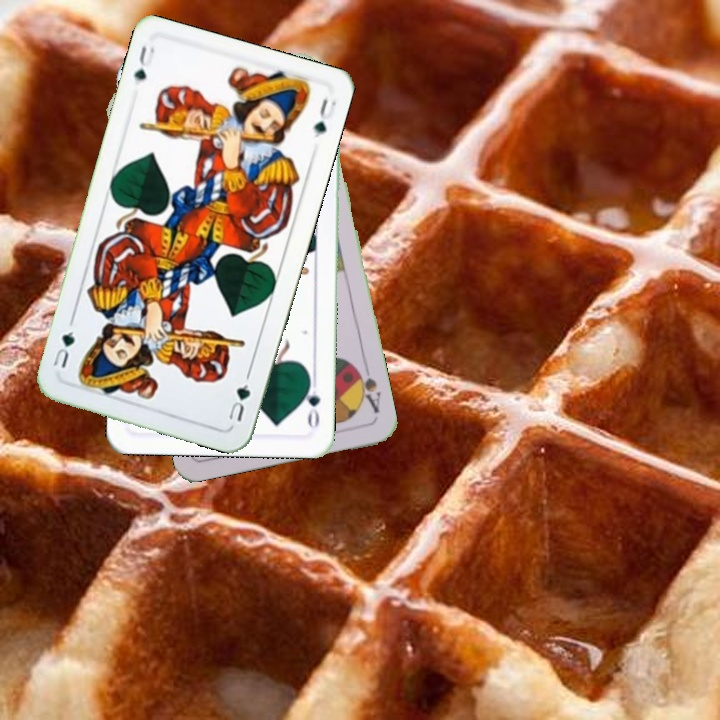GO: (300, 373, 323, 432)
GU: (224, 370, 253, 424), (130, 42, 157, 84)
SA: (351, 360, 384, 416)
